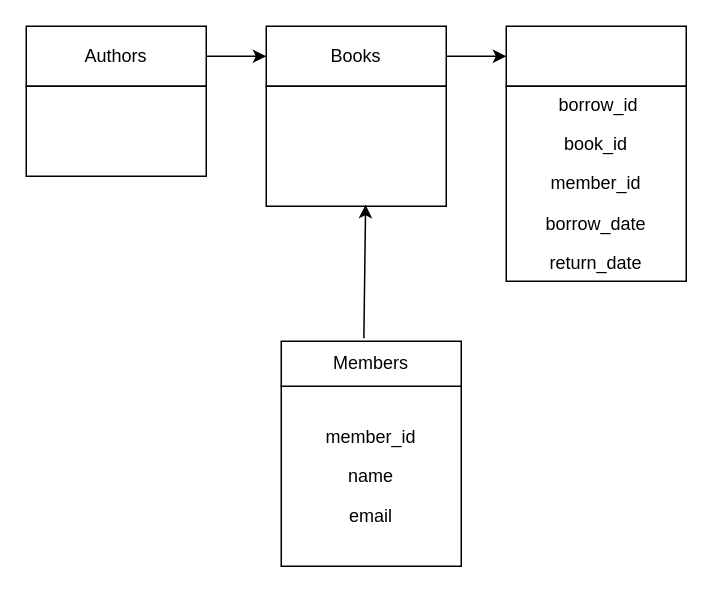
Image size: 713x593. Some labels were removed from this diagram. Here are the shapes that lost their labels. From the top down, the centre of each, then its label:
the point at 595,55: Borrow
the point at 115,130: author_id name
the point at 355,145: book_id title author_id
